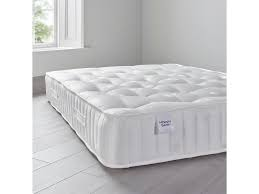bed-matress: (43, 62, 226, 169)
